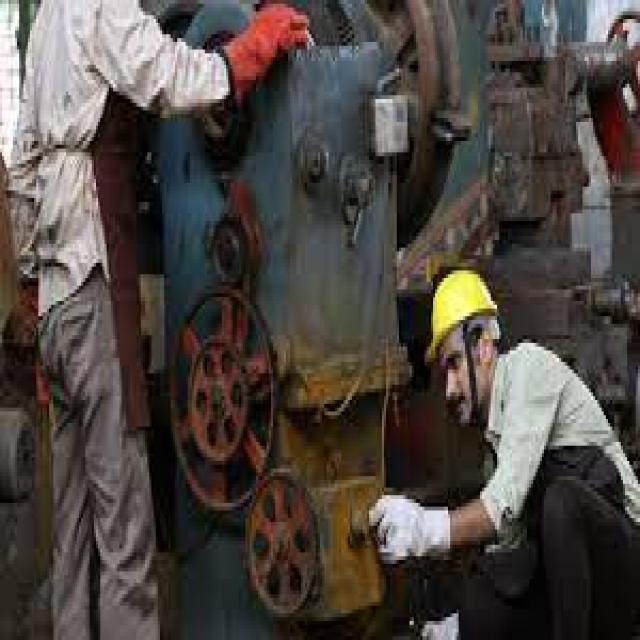Reflective-Jacket: (471, 332, 638, 610)
Safety-Helmet: (418, 252, 508, 370)
